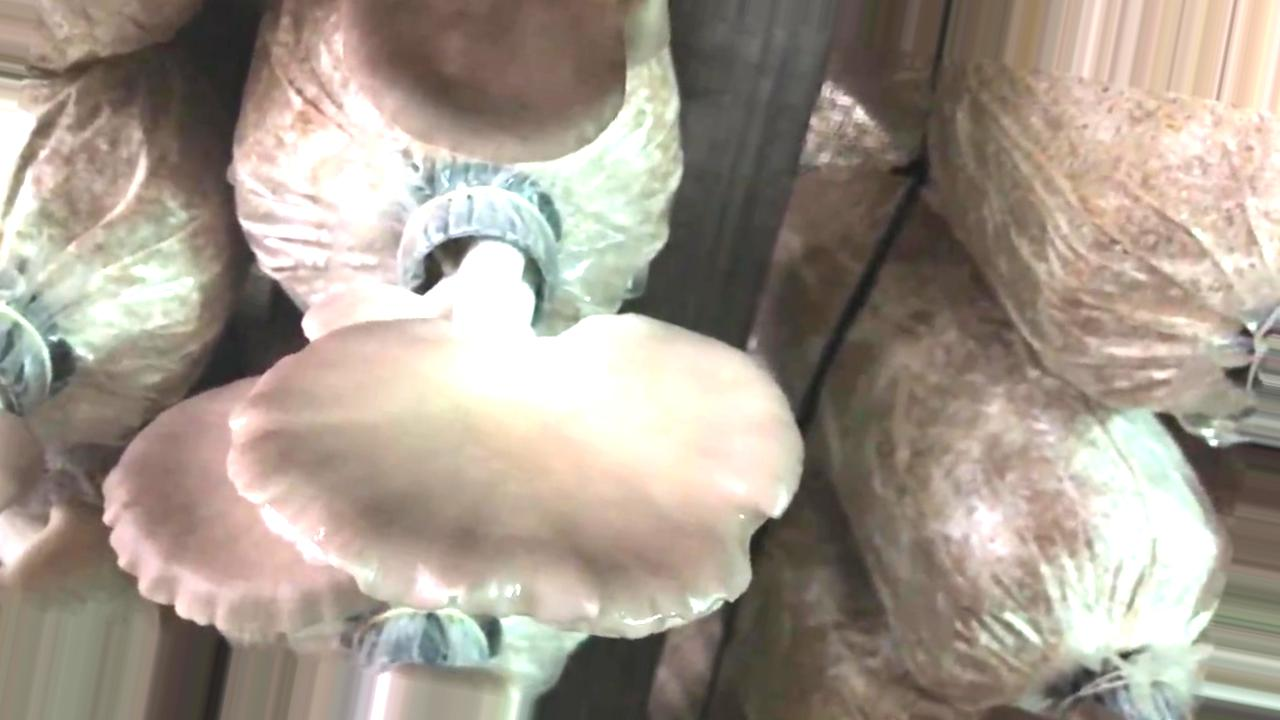nam: (223, 163, 802, 637), (107, 378, 385, 641), (347, 4, 626, 161)
